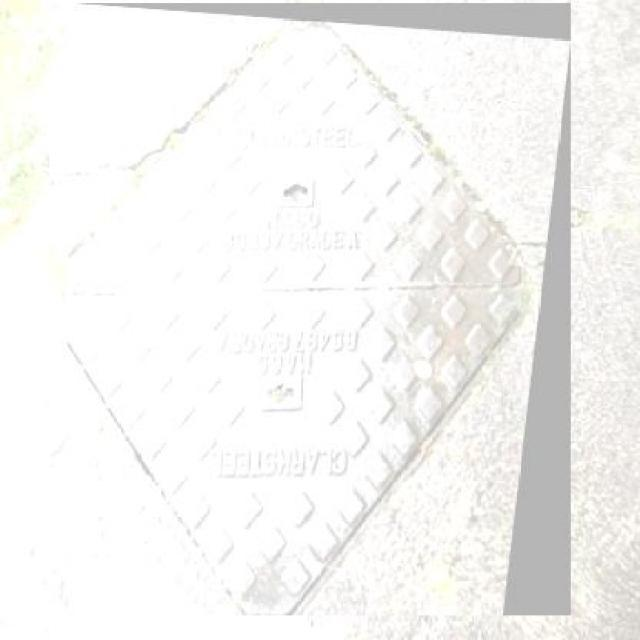Manhole: (68, 4, 570, 616)
